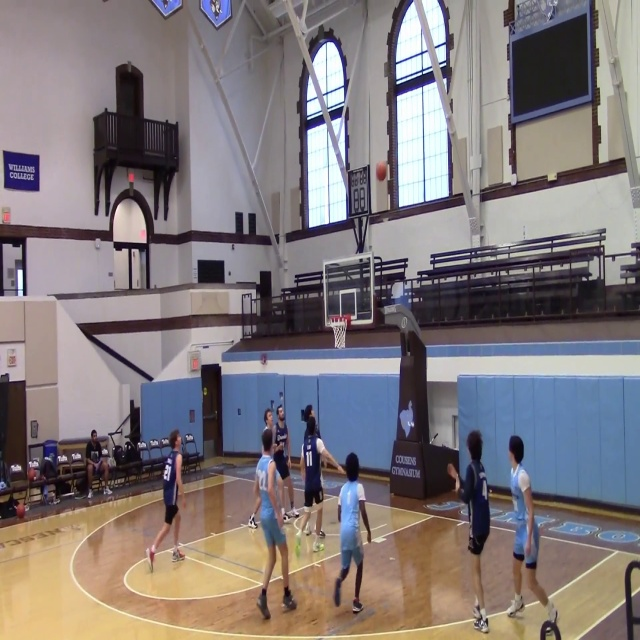Basketball: (375, 161, 388, 181), (15, 504, 25, 518)
